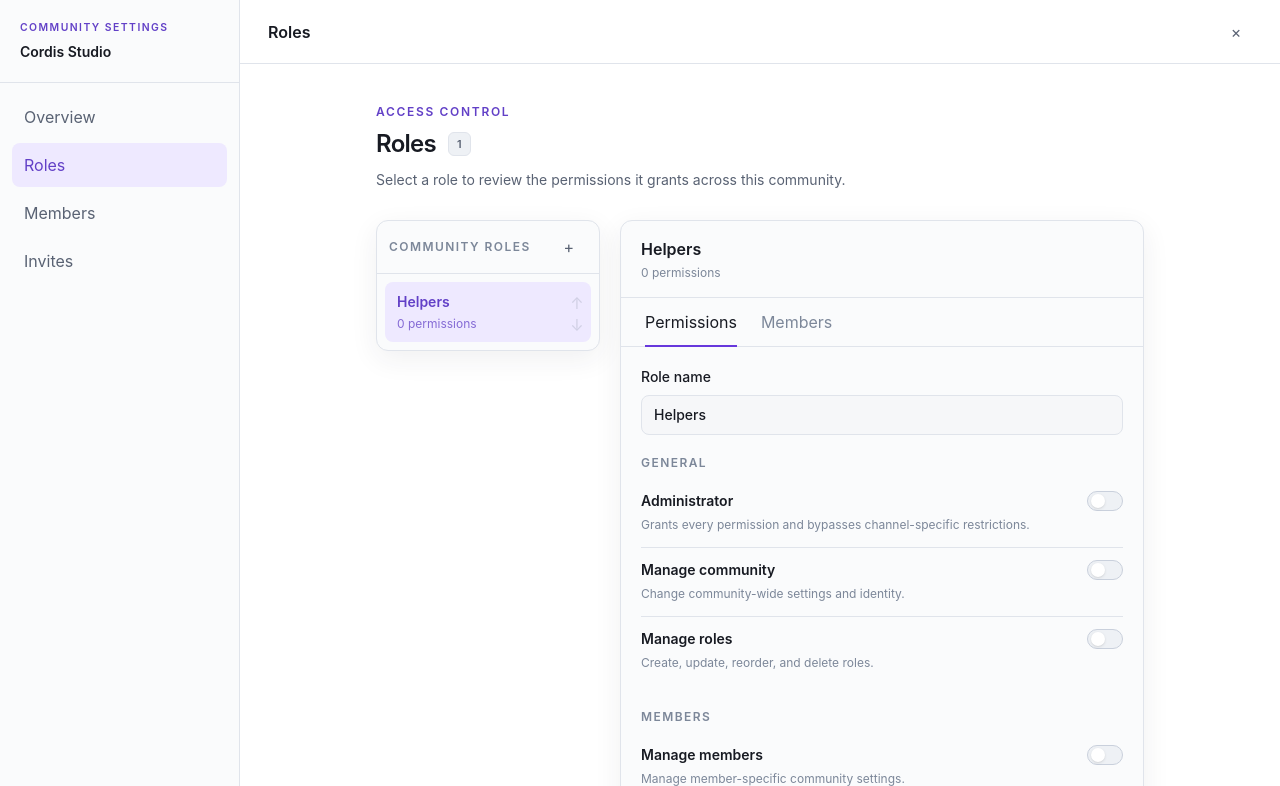
Scenario: GuildSettingsPage › updates a role name and permission bitfield
Replace the text in the field labelled "Role name" with "Moderators": (882,415) x1=641 y1=395 x2=1123 y2=435
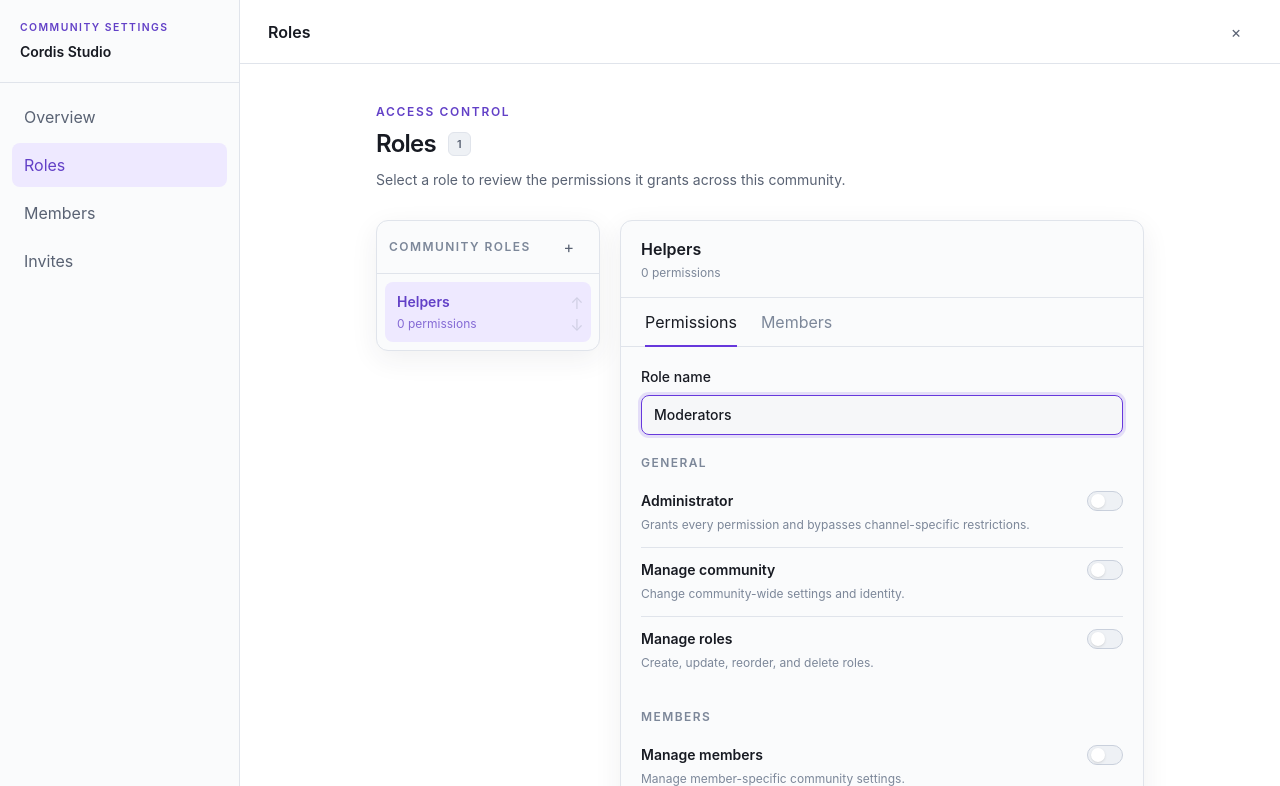
Click the switch named "Manage community": (1105,570) x1=1087 y1=560 x2=1123 y2=580
(page scrolled)
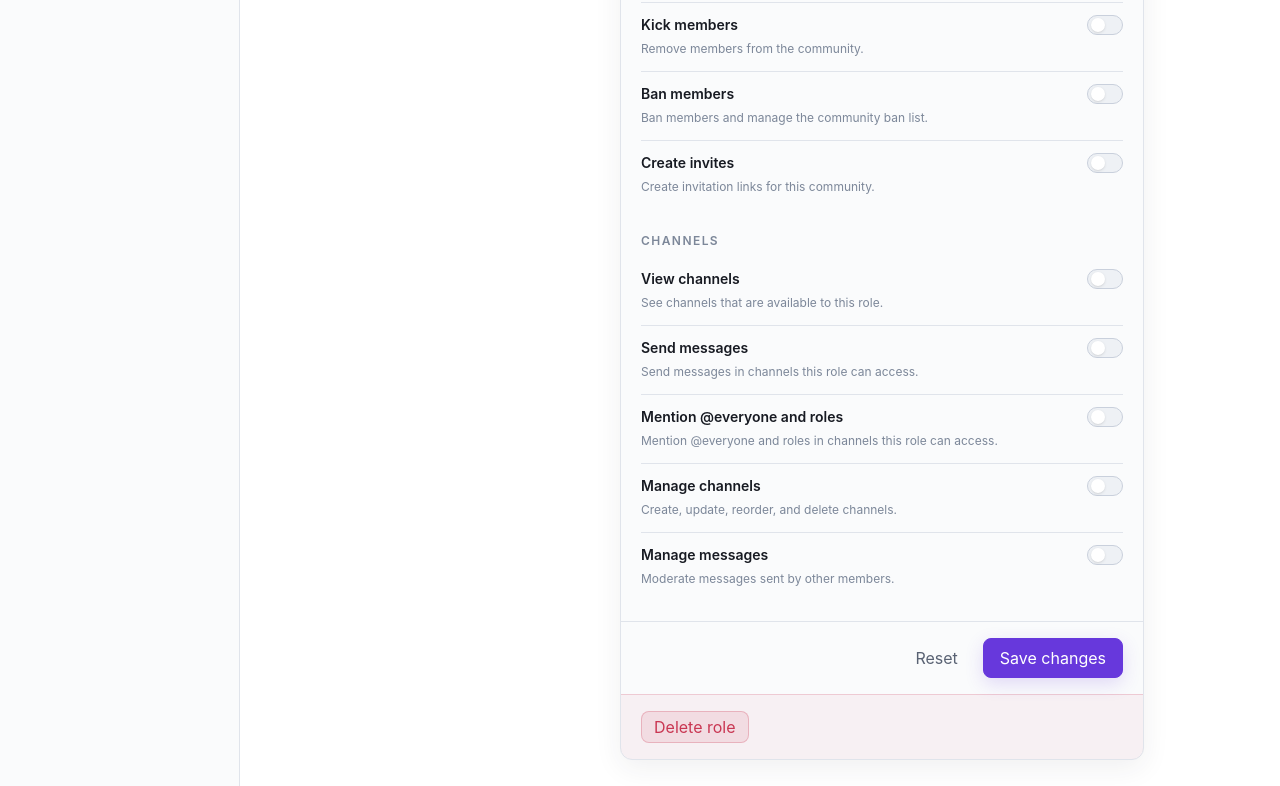
Click the button "Save changes": (1053,658) x1=983 y1=638 x2=1123 y2=678
(page scrolled)
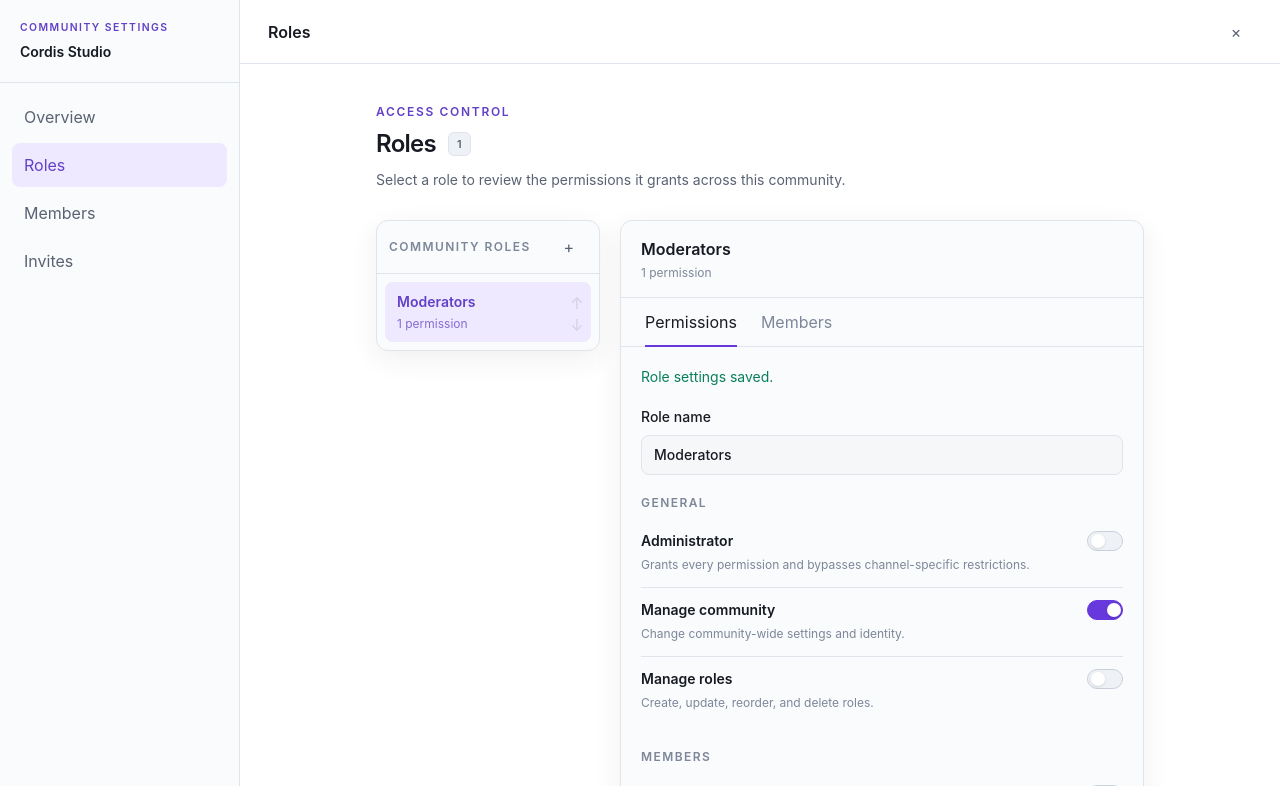
Now the message reads "Role settings saved.", box x1=641 y1=368 x2=773 y2=385
